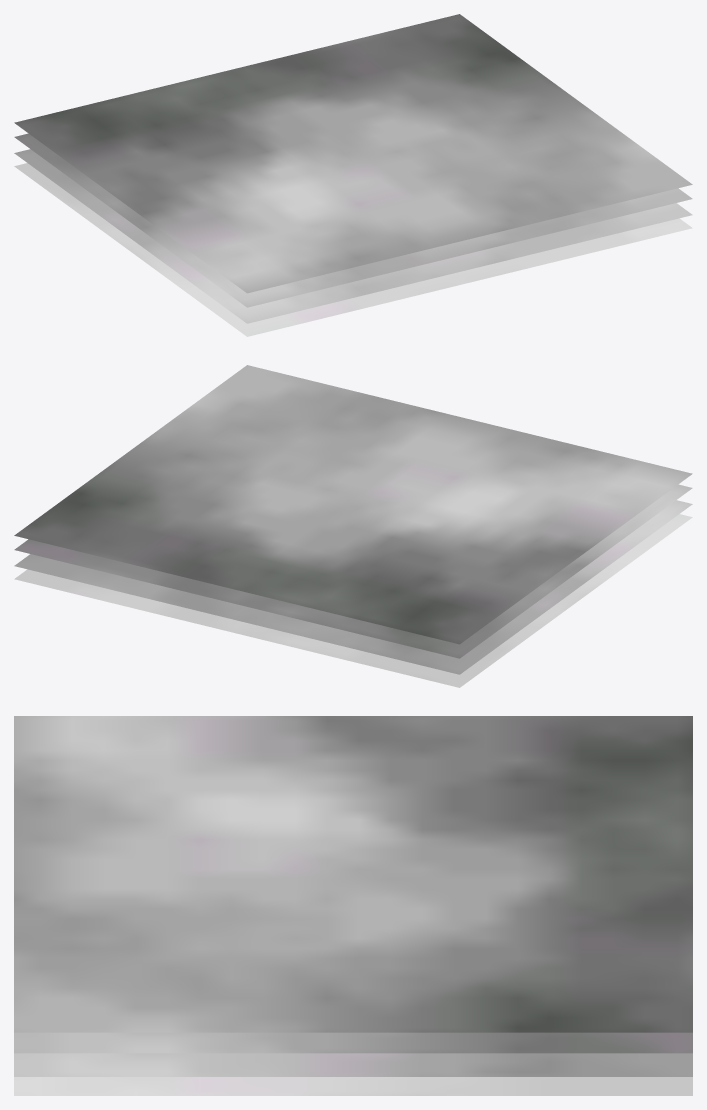
Rendered from SWORDLIGHT20_MAINCAVERNCLOUDS18.fbx.
The picture shows the model from 3 angles, top to bottom: view 1: azimuth 30°, elevation 25°; view 2: azimuth 150°, elevation 25°; view 3: azimuth 270°, elevation 25°; orthographic projection. The views are drawn at different scales.
Parts seen in each view (by area): view 1: SWORDLIGHT20_MAINCAVERNCLOUDS18; view 2: SWORDLIGHT20_MAINCAVERNCLOUDS18; view 3: SWORDLIGHT20_MAINCAVERNCLOUDS18.
Boxes of the visible parts, box(x1,y1,x2,y2) form: SWORDLIGHT20_MAINCAVERNCLOUDS18: box(14, 14, 692, 336); SWORDLIGHT20_MAINCAVERNCLOUDS18: box(14, 365, 692, 687); SWORDLIGHT20_MAINCAVERNCLOUDS18: box(14, 716, 692, 1095).
Size of the model in its own units: 161490 by 15056 by 146334.
Materials: 4 (4 with a texture image).
